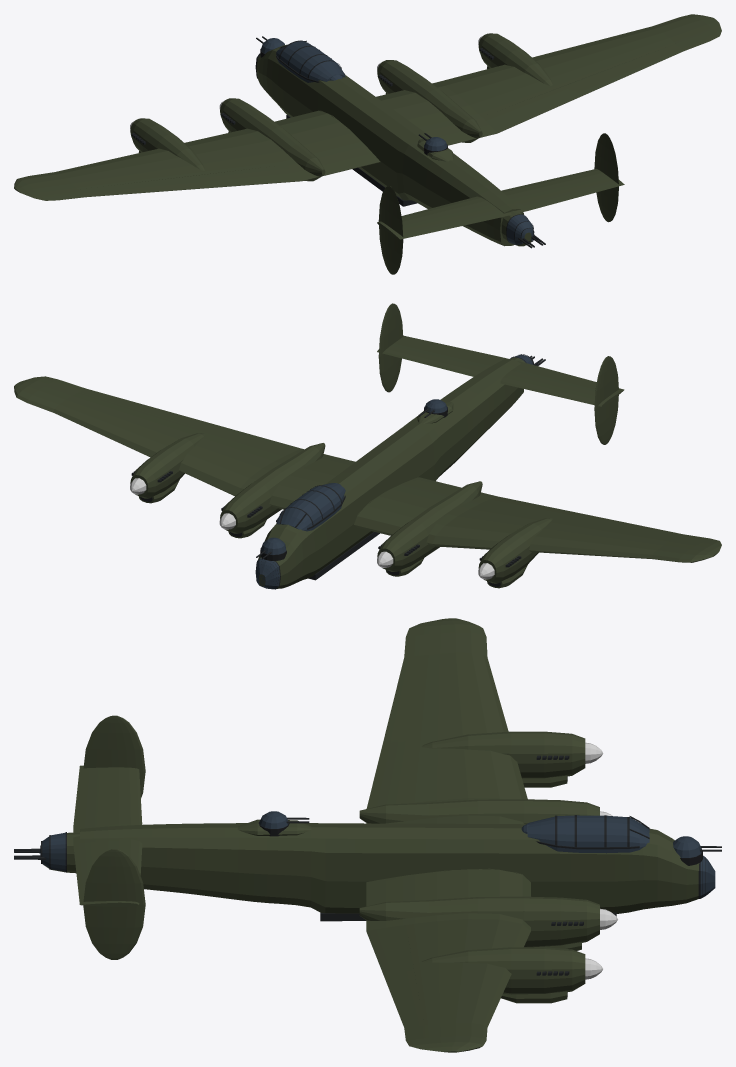
File: lancaster.glb
The picture shows the model from 3 angles, top to bottom: view 1: azimuth 30°, elevation 25°; view 2: azimuth 150°, elevation 25°; view 3: azimuth 270°, elevation 25°; orthographic projection. The views are drawn at different scales.
Visible parts, largest first — view 1: Fuselage, Wing R, Wing L, Nacelles, Flap L, Flap R, Cockpit Glass, Aileron R, Stabilizer R, Stabilizer L, Aileron L, Elevator L (+7 smaller); view 2: Fuselage, Wing L, Wing R, Nacelles, Cockpit Glass, Stabilizer L, Stabilizer R, Flap R, Flap L, Vertical Fin, Vertical Fin 2, Aileron R (+8 smaller); view 3: Fuselage, Nacelles, Wing L, Wing R, Cockpit Glass, Vertical Fin 2, Flap R, Stabilizer L, Flap L, Aileron L, Rudder 2, Vertical Fin (+9 smaller).
Part boxes in pixels (box(x1,y1,x2,y2)): Fuselage: box(256, 44, 523, 246); Wing R: box(376, 14, 721, 130); Wing L: box(14, 110, 380, 200); Nacelles: box(130, 33, 552, 181); Flap L: box(197, 146, 377, 187); Flap R: box(423, 86, 576, 145); Cockpit Glass: box(276, 41, 345, 82); Aileron R: box(568, 44, 682, 96); Stabilizer R: box(501, 169, 610, 203); Stabilizer L: box(377, 196, 496, 234); Aileron L: box(79, 176, 204, 196); Elevator L: box(392, 208, 511, 239); Fuselage: box(257, 359, 523, 588); Wing L: box(354, 477, 721, 562); Wing R: box(14, 376, 344, 509); Nacelles: box(130, 433, 552, 583); Cockpit Glass: box(276, 483, 345, 531); Stabilizer L: box(500, 368, 616, 406); Stabilizer R: box(377, 341, 495, 376); Flap R: box(197, 423, 355, 469); Flap L: box(407, 478, 576, 517); Vertical Fin: box(594, 356, 609, 444); Vertical Fin 2: box(378, 304, 393, 392); Aileron R: box(79, 388, 204, 426); Fuselage: box(80, 823, 699, 913); Nacelles: box(359, 731, 599, 994); Wing L: box(383, 618, 527, 824); Wing R: box(366, 868, 530, 1052); Cockpit Glass: box(527, 815, 649, 853); Vertical Fin 2: box(109, 849, 145, 959); Flap R: box(366, 877, 413, 972); Stabilizer L: box(96, 767, 142, 827); Flap L: box(366, 740, 413, 823); Aileron L: box(383, 655, 423, 741); Rudder 2: box(83, 849, 111, 959); Vertical Fin: box(109, 715, 145, 797).
Bounding box in the file's own units: 31.1 × 4.34 × 21.5.
